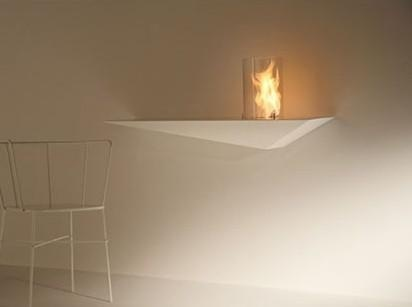fire: (249, 56, 284, 118)
